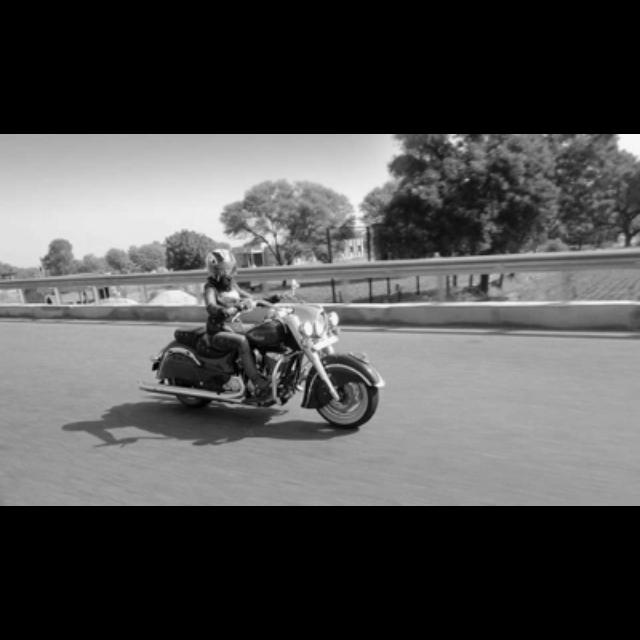With Helmet: (202, 249, 242, 283)
